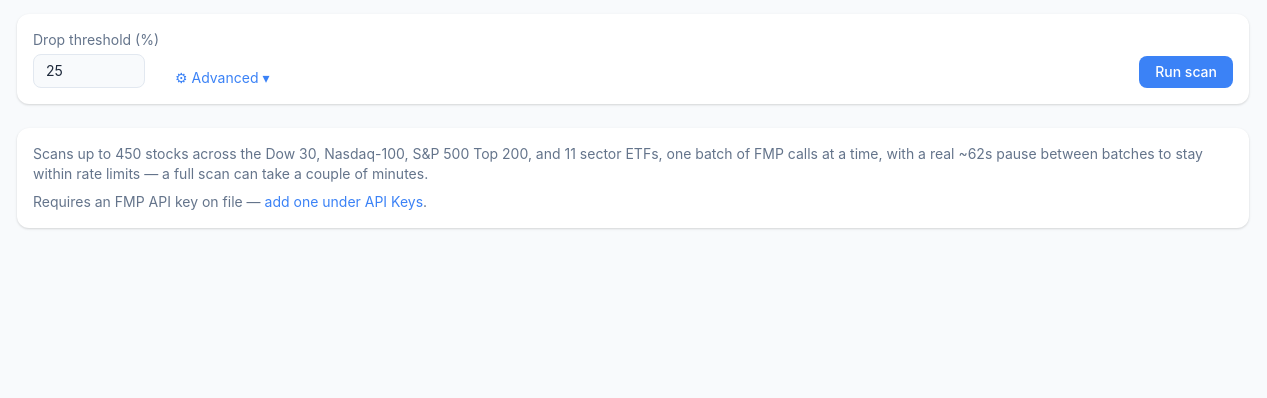
Scenario: ContrarianFinderPage › orchestrates multiple batches sequentially and stops at the real totalBatches, not the requested max
Click the button "Run scan".
click(1186, 72)  # box [1139,56,1233,88]
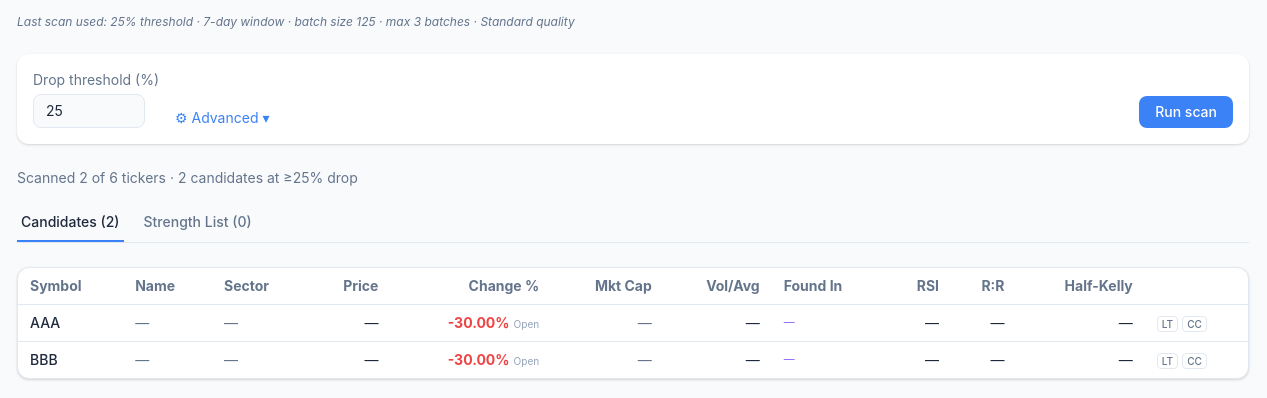
Expected: the button "Candidates (2)" is shown, [17,212,124,242]
